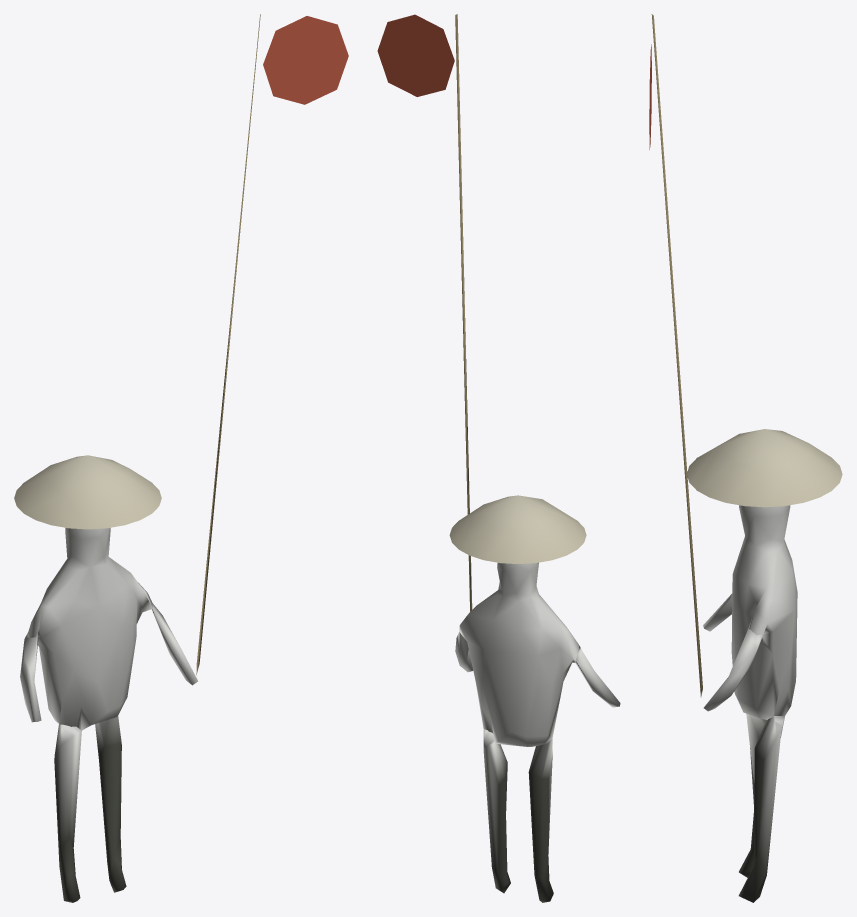
The model's file is keeper-1.glb.
3 renders of one model, left to right at view 1: azimuth 30°, elevation 25°; view 2: azimuth 150°, elevation 25°; view 3: azimuth 270°, elevation 25°, orthographic. The views are drawn at different scales.
Parts seen in each view (by area): view 1: keeper; view 2: keeper; view 3: keeper.
Boxes of the visible parts, x1=… form: keeper: x1=14, y1=14, x2=348, y2=902; keeper: x1=377, y1=14, x2=620, y2=902; keeper: x1=649, y1=14, x2=842, y2=902.
Size of the model in its own units: 1.25 by 3.68 by 0.6866.
